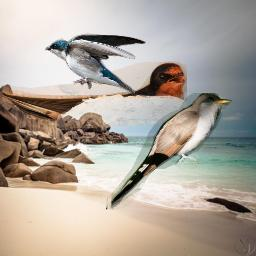Cuckoo: (106, 93, 233, 210)
Swallow: (2, 61, 187, 128), (45, 33, 146, 95)
